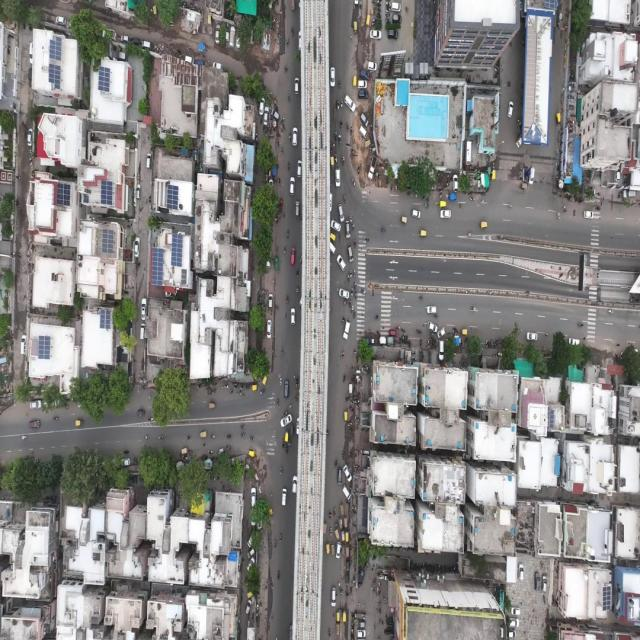3W: (74, 417, 87, 435), (328, 152, 338, 174), (476, 216, 488, 232), (208, 398, 216, 418), (352, 16, 359, 38), (343, 567, 350, 589), (417, 226, 427, 241), (248, 445, 257, 461), (437, 199, 450, 209), (458, 324, 468, 337), (250, 380, 258, 396), (331, 540, 337, 559), (491, 164, 496, 186), (136, 406, 145, 418), (555, 107, 561, 125), (340, 500, 346, 518), (342, 606, 348, 624), (342, 410, 350, 423), (366, 12, 372, 29), (398, 215, 407, 226), (199, 429, 210, 438), (283, 430, 290, 444), (344, 527, 350, 543), (345, 556, 351, 572), (335, 608, 341, 624), (262, 374, 268, 390), (337, 516, 344, 529), (333, 528, 339, 543), (335, 620, 340, 637), (329, 228, 336, 240), (206, 12, 212, 26), (324, 543, 331, 555), (346, 544, 350, 561), (345, 516, 349, 530), (353, 74, 356, 88)
Cars: (138, 294, 148, 328), (336, 252, 349, 278), (367, 27, 383, 42), (278, 413, 292, 430), (517, 560, 526, 586), (133, 231, 141, 260), (344, 462, 354, 485), (346, 242, 356, 265), (541, 570, 549, 598), (262, 102, 270, 130), (366, 58, 379, 75), (565, 335, 580, 349), (358, 108, 368, 129), (526, 328, 540, 342), (117, 30, 131, 44), (244, 556, 256, 572), (621, 189, 637, 201), (450, 174, 460, 193), (294, 157, 303, 178), (27, 37, 34, 64), (435, 324, 446, 341), (290, 125, 298, 148), (134, 181, 142, 204), (510, 604, 523, 618), (581, 209, 594, 223), (28, 418, 43, 430), (506, 100, 515, 120), (357, 77, 369, 92), (331, 218, 341, 236), (264, 319, 272, 341), (532, 568, 540, 590), (293, 198, 301, 220), (54, 16, 70, 27), (329, 67, 336, 92), (391, 10, 404, 23), (329, 583, 336, 607), (344, 96, 356, 110), (26, 66, 33, 90), (229, 26, 236, 49), (213, 19, 220, 42), (144, 148, 151, 171), (247, 534, 255, 554), (269, 103, 279, 119), (280, 483, 286, 509), (425, 321, 438, 333), (356, 67, 369, 79), (387, 28, 399, 41), (20, 333, 27, 355), (29, 400, 43, 411), (116, 46, 127, 60), (358, 123, 367, 140), (273, 256, 282, 273), (283, 378, 289, 402), (290, 243, 296, 267), (257, 96, 263, 120), (140, 38, 152, 50), (439, 207, 450, 220), (356, 87, 369, 98), (343, 319, 350, 339), (508, 618, 522, 628), (409, 208, 423, 218), (343, 218, 350, 238), (290, 471, 296, 494), (27, 126, 33, 149), (139, 320, 145, 342), (250, 483, 256, 505), (337, 288, 349, 299), (337, 203, 343, 225), (246, 546, 256, 559), (390, 1, 403, 11), (210, 60, 223, 70), (266, 289, 272, 310), (336, 539, 341, 563), (505, 630, 517, 640), (438, 339, 443, 363), (426, 306, 438, 316), (291, 303, 295, 332), (337, 466, 342, 489), (334, 167, 340, 186), (292, 76, 298, 95), (343, 484, 350, 500), (357, 617, 367, 628), (357, 628, 367, 639), (530, 166, 535, 188), (387, 327, 398, 337), (246, 598, 252, 616), (516, 132, 522, 150), (296, 415, 300, 441), (289, 172, 293, 197), (183, 54, 193, 64), (122, 459, 132, 468), (131, 36, 140, 45), (195, 60, 204, 66)
LCV: (366, 155, 377, 185), (198, 42, 207, 54)
M2W: (156, 430, 166, 446), (288, 26, 298, 42), (285, 153, 292, 175), (338, 151, 348, 165), (146, 411, 156, 424), (224, 429, 234, 442), (342, 192, 350, 208), (341, 371, 348, 389), (184, 434, 194, 446), (274, 396, 281, 412), (360, 282, 367, 298), (142, 432, 151, 444), (577, 318, 586, 330), (353, 164, 362, 176), (469, 302, 476, 317), (210, 429, 216, 446), (334, 97, 340, 114), (287, 130, 293, 147), (279, 142, 285, 159), (418, 294, 427, 305), (282, 61, 289, 75), (351, 348, 359, 360), (554, 213, 562, 225), (336, 78, 342, 94), (285, 86, 290, 105), (51, 413, 60, 423), (278, 460, 284, 475), (347, 296, 353, 311), (466, 230, 474, 241), (608, 307, 616, 318), (275, 568, 281, 582), (246, 433, 254, 443), (295, 266, 300, 282), (286, 436, 292, 449), (326, 510, 332, 523), (327, 625, 333, 638), (350, 285, 356, 298), (295, 279, 299, 298), (353, 306, 358, 321), (206, 447, 214, 456), (278, 376, 284, 388), (294, 392, 300, 404), (350, 178, 356, 190), (282, 247, 288, 259), (279, 529, 284, 543), (329, 522, 334, 536), (469, 193, 476, 203), (339, 96, 344, 110), (375, 313, 380, 326), (507, 199, 512, 212), (238, 421, 246, 429), (285, 444, 289, 460), (272, 534, 276, 550), (20, 433, 27, 442), (224, 383, 231, 392), (396, 324, 403, 333), (347, 214, 353, 224), (338, 134, 342, 149), (285, 231, 291, 241), (285, 294, 290, 306), (355, 291, 359, 305), (332, 129, 338, 138), (332, 503, 336, 516), (349, 127, 354, 137), (225, 445, 232, 452), (240, 430, 246, 438), (288, 402, 292, 414), (350, 223, 356, 231), (339, 116, 342, 132), (287, 37, 290, 51), (282, 437, 285, 449), (345, 123, 349, 132), (351, 305, 354, 314)
